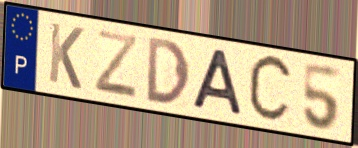5: (301, 60, 341, 134)
A: (190, 47, 246, 118)
C: (245, 52, 296, 127)
D: (145, 34, 193, 107)
K: (46, 19, 86, 93)
Z: (93, 27, 140, 102)
